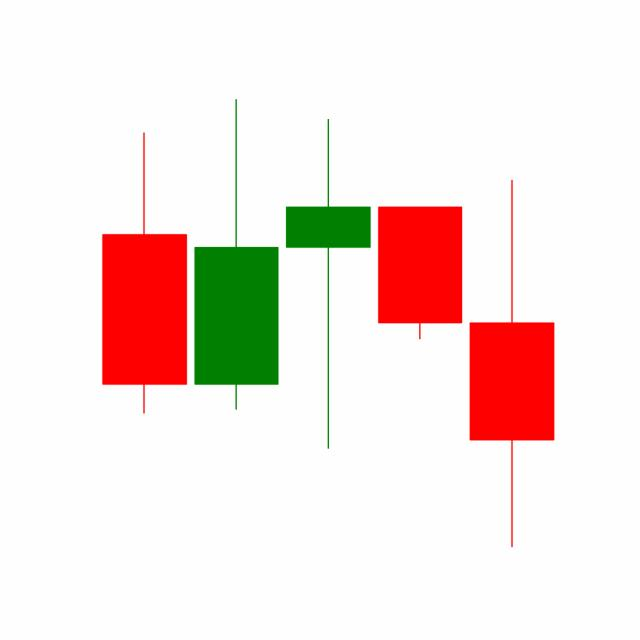Marubozu: (373, 204, 467, 341)
